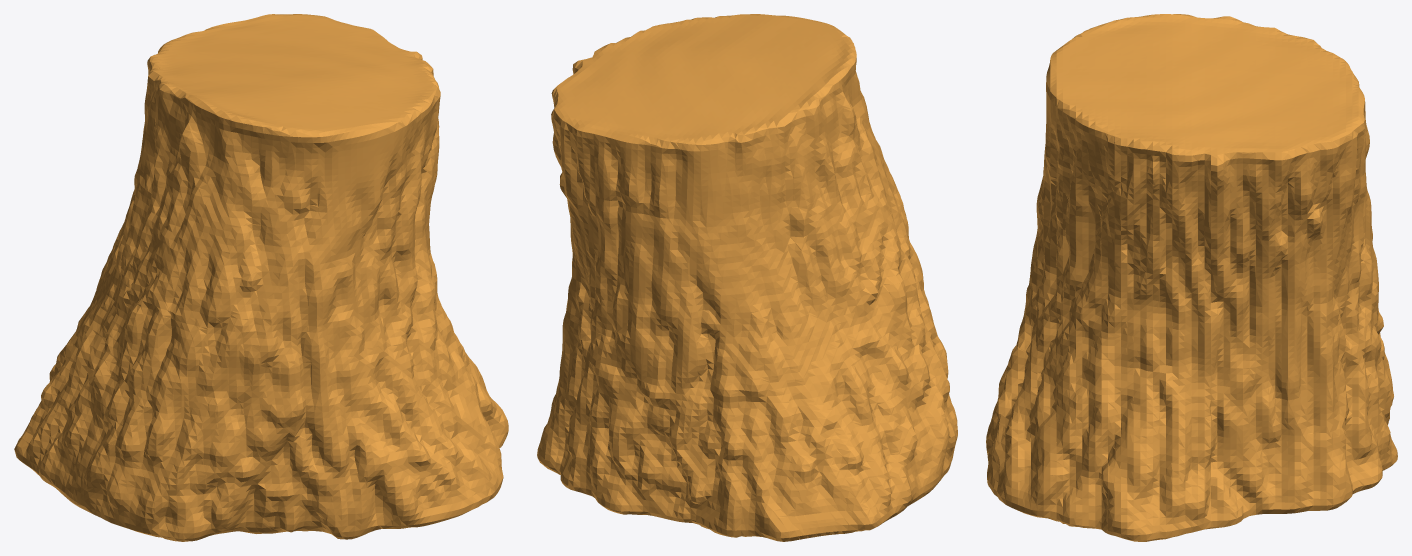
File: stump.glb
3 renders of one model, left to right at view 1: azimuth 30°, elevation 25°; view 2: azimuth 150°, elevation 25°; view 3: azimuth 270°, elevation 25°, orthographic. The views are drawn at different scales.
Parts seen in each view (by area): view 1: Block3D_Item; view 2: Block3D_Item; view 3: Block3D_Item.
Boxes of the visible parts, x1,y1,x2,y2 form: Block3D_Item: (14,14,508,541); Block3D_Item: (537,14,957,541); Block3D_Item: (986,14,1397,541).
Size of the model in its own units: 1.02 by 0.9649 by 0.903.
